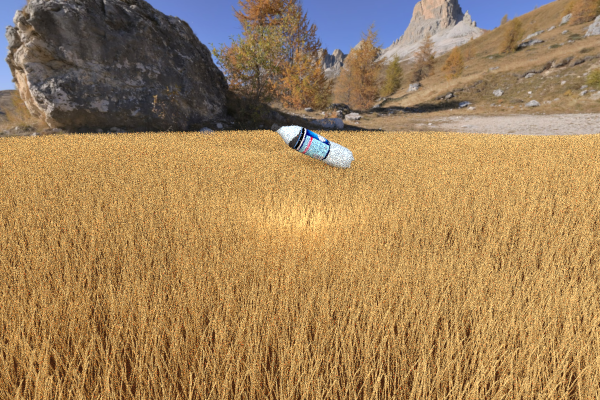bottle: (271, 123, 354, 169)
can: (62, 123, 128, 153), (494, 131, 553, 155)
